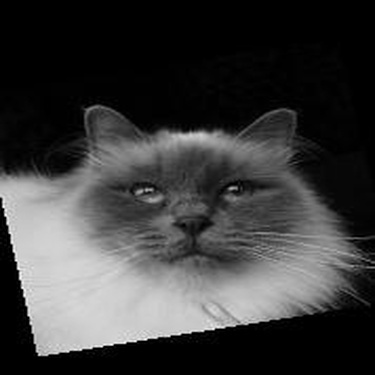cat: (12, 102, 365, 317)
